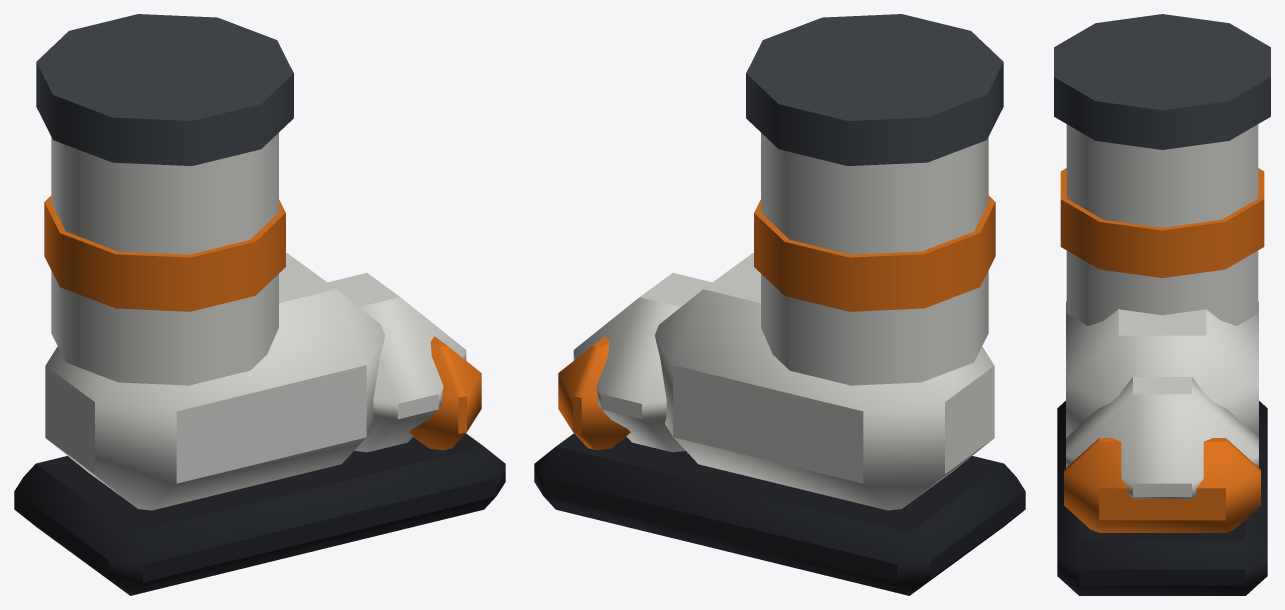
Rendered from boot.glb.
3 renders of one model, left to right at view 1: azimuth 30°, elevation 25°; view 2: azimuth 150°, elevation 25°; view 3: azimuth 270°, elevation 25°, orthographic. The views are drawn at different scales.
Parts seen in each view (by area): view 1: Body; view 2: Body; view 3: Body.
Boxes of the visible parts, bbox=[...] form: Body: bbox=[14, 14, 505, 595]; Body: bbox=[534, 14, 1025, 595]; Body: bbox=[1054, 14, 1270, 595].
Bounding box in the file's own units: 0.47 × 0.525 × 0.2473.
